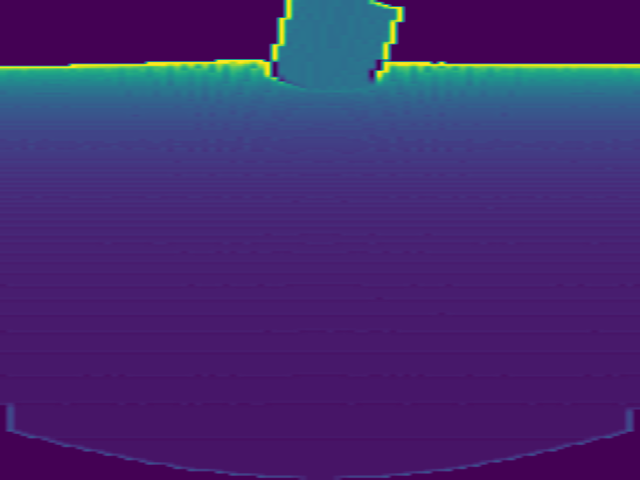cylinder: (267, 1, 403, 90)
